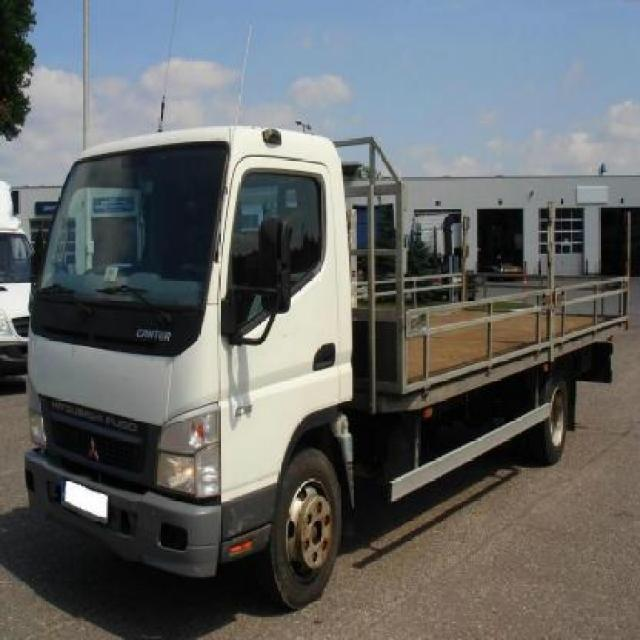truck: (25, 129, 629, 610)
